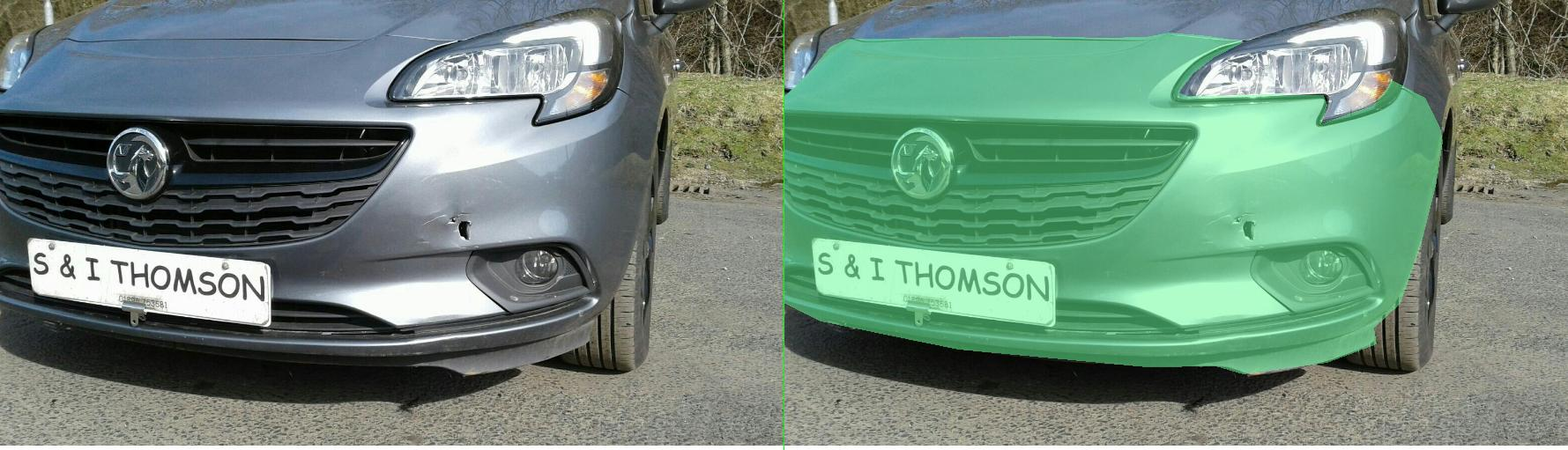Broken part: (0, 33, 1316, 373)
